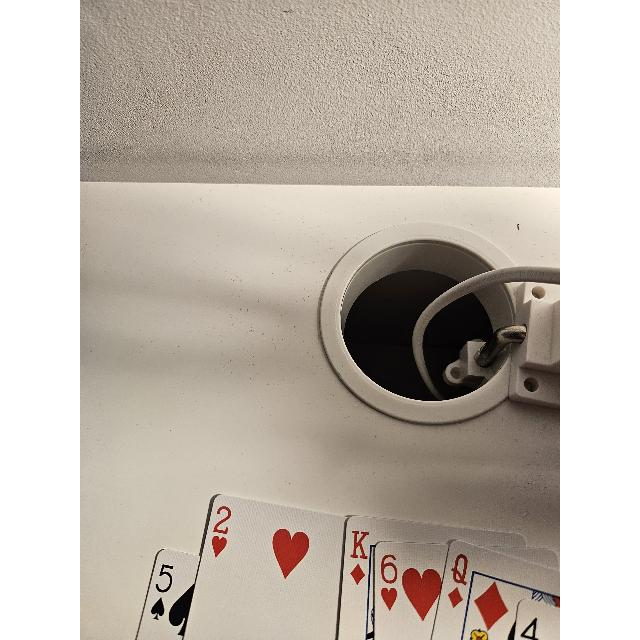2H: (210, 500, 234, 558)
5S: (150, 562, 178, 624)
6H: (378, 549, 402, 609)
KD: (344, 524, 372, 586)
QD: (446, 550, 468, 608)
